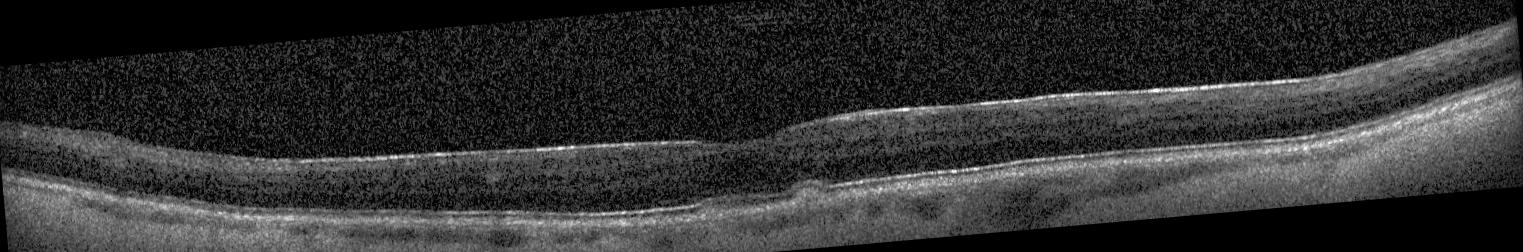retinal_drusen: (701, 204, 751, 220), (796, 191, 825, 209)
